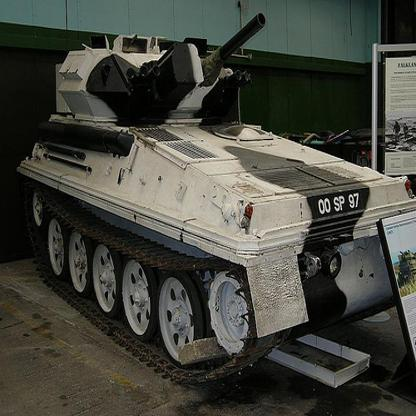Tank: (18, 11, 416, 381)
